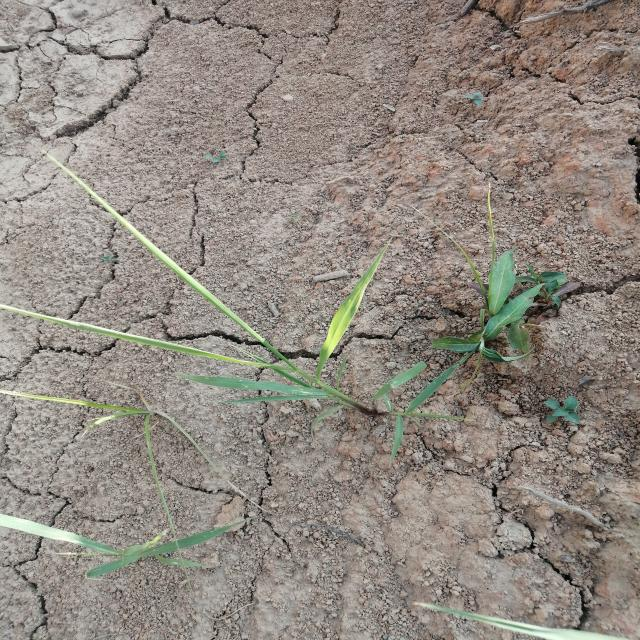green_foxtail: (105, 216, 461, 477)
